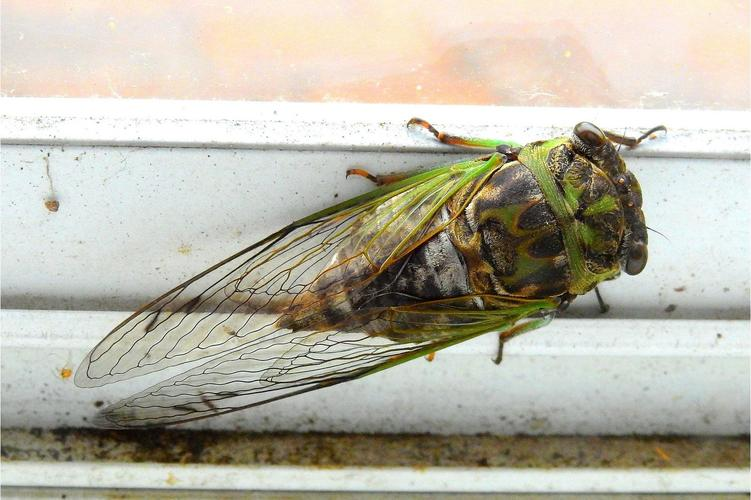Cicadellidae: (71, 116, 666, 431)
